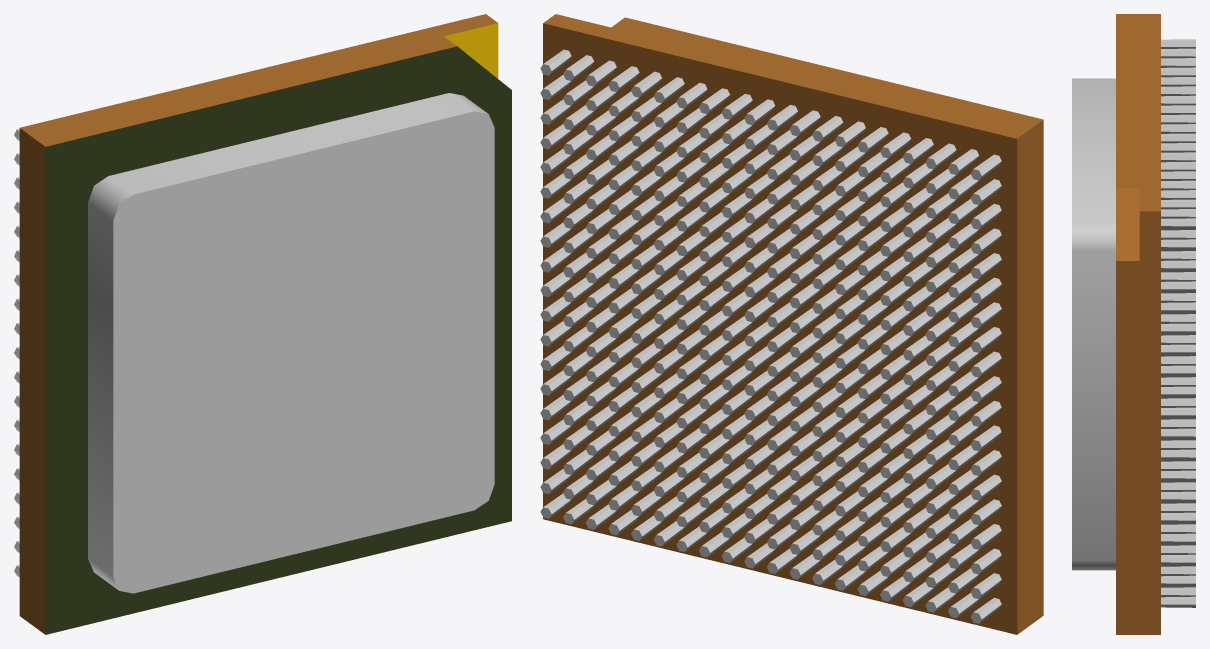
The model's file is CPU.fbx.
3 renders of one model, left to right at view 1: azimuth 30°, elevation 25°; view 2: azimuth 150°, elevation 25°; view 3: azimuth 270°, elevation 25°, orthographic. The views are drawn at different scales.
Parts seen in each view (by area): view 1: Processador; view 2: Processador; view 3: Processador.
Boxes of the visible parts, box(x1,y1,x2,y2) form: Processador: box(14, 14, 511, 634); Processador: box(540, 14, 1043, 634); Processador: box(1072, 14, 1195, 634).
Size of the model in its own units: 56.58 by 56.58 by 15.
